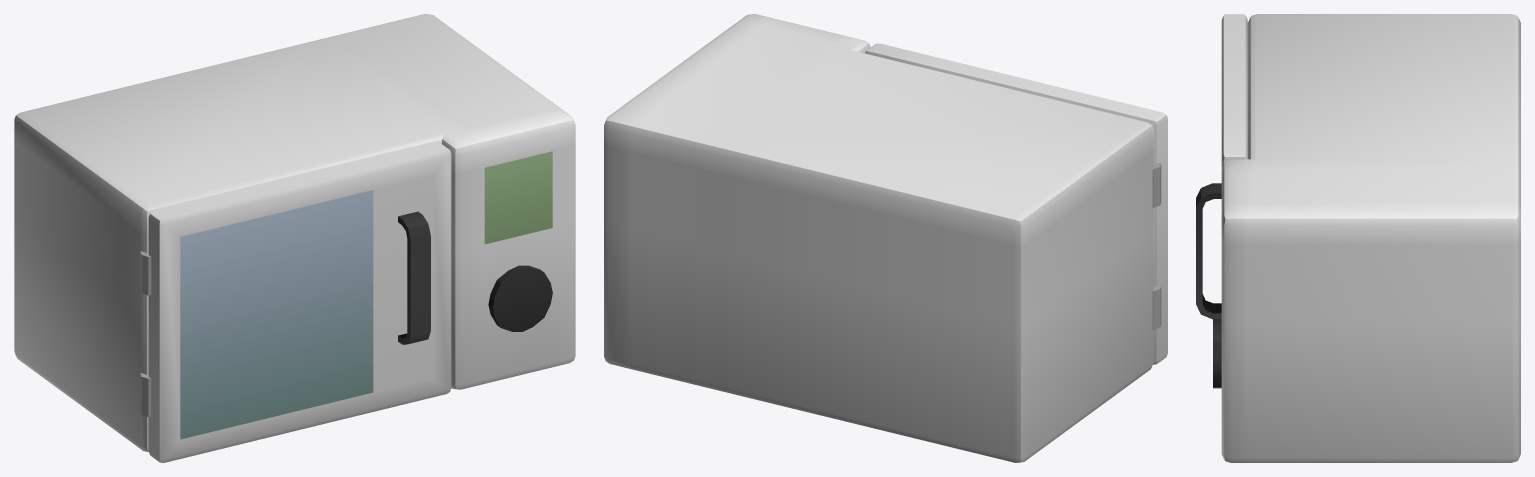
File: sp_microwave_kitchen_a.fbx
The picture shows the model from 3 angles, left to right: view 1: azimuth 30°, elevation 25°; view 2: azimuth 150°, elevation 25°; view 3: azimuth 270°, elevation 25°; orthographic projection.
Visible parts, largest first — view 1: sp_microwave_kitchen_a; view 2: sp_microwave_kitchen_a; view 3: sp_microwave_kitchen_a.
Boxes of the visible parts, x1,y1,x2,y2 form: sp_microwave_kitchen_a: (14, 14, 575, 462); sp_microwave_kitchen_a: (604, 14, 1167, 462); sp_microwave_kitchen_a: (1196, 14, 1520, 462).
Size of the model in its own units: 73.84 by 41.16 by 48.6.
